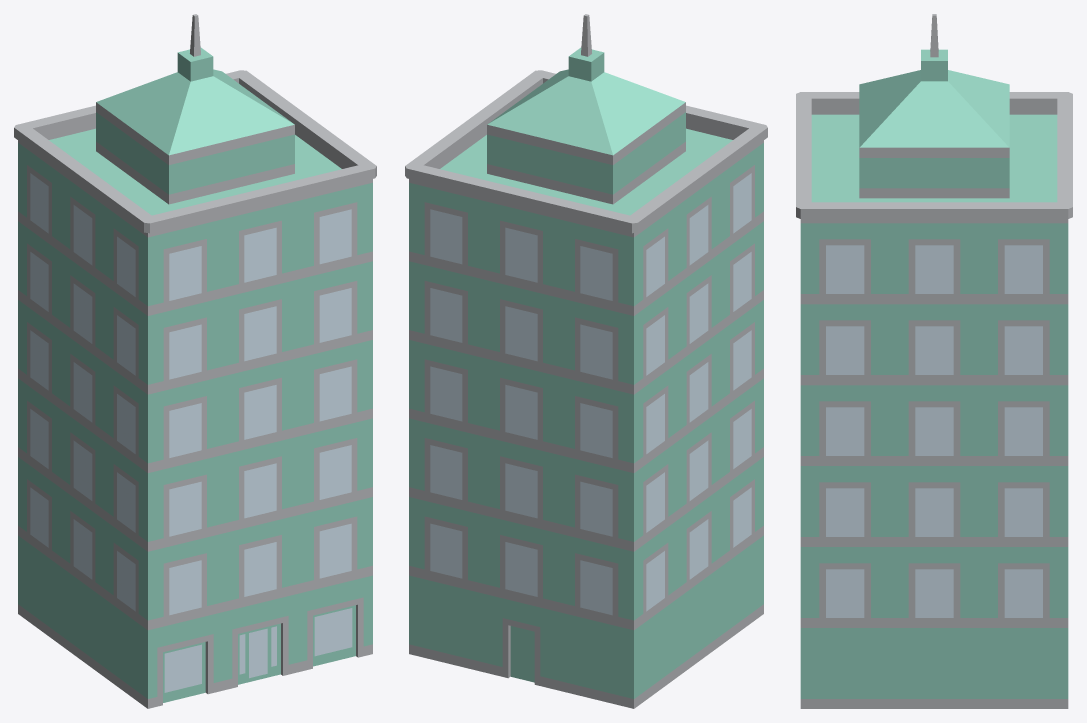
Rendered from skyscraperE1.glb.
The picture shows the model from 3 angles, left to right: view 1: azimuth 30°, elevation 25°; view 2: azimuth 150°, elevation 25°; view 3: azimuth 270°, elevation 25°; orthographic projection. The views are drawn at different scales.
Parts seen in each view (by area): view 1: skyscraperE1; view 2: skyscraperE1; view 3: skyscraperE1.
Part boxes in pixels (left/top/right/bottom): skyscraperE1: left=14, top=14, right=376, bottom=708; skyscraperE1: left=405, top=14, right=767, bottom=708; skyscraperE1: left=796, top=14, right=1072, bottom=708.
Bounding box in the file's own units: 1.24 × 3.15 × 1.24.
2 materials, 1 textured.
